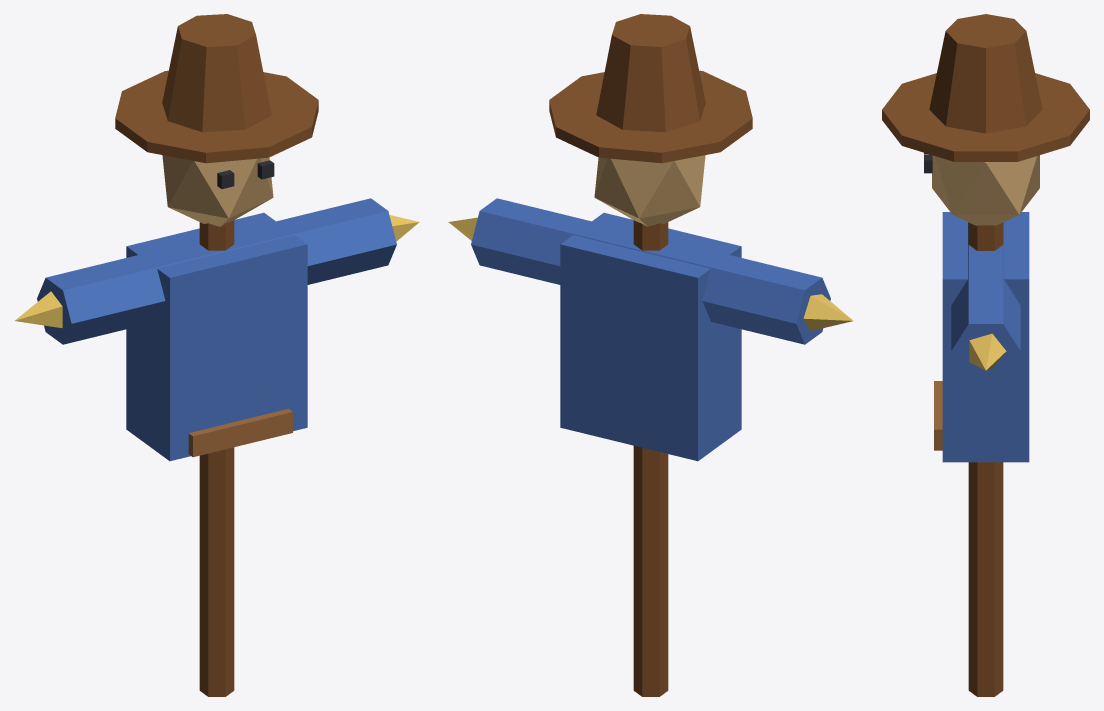
The model's file is scarecrow.glb.
3 views of the same model, side by side, from view 1: azimuth 30°, elevation 25°; view 2: azimuth 150°, elevation 25°; view 3: azimuth 270°, elevation 25° (orthographic).
Parts seen in each view (by area): view 1: scarecrow; view 2: scarecrow; view 3: scarecrow.
Boxes of the visible parts, left/top/right/bottom form: scarecrow: left=14, top=14, right=419, bottom=696; scarecrow: left=448, top=14, right=853, bottom=696; scarecrow: left=882, top=14, right=1089, bottom=696.
Size of the model in its own units: 1.62 by 2.52 by 0.72.
